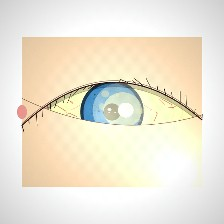corneal_ulcer: (91, 85, 154, 135)
